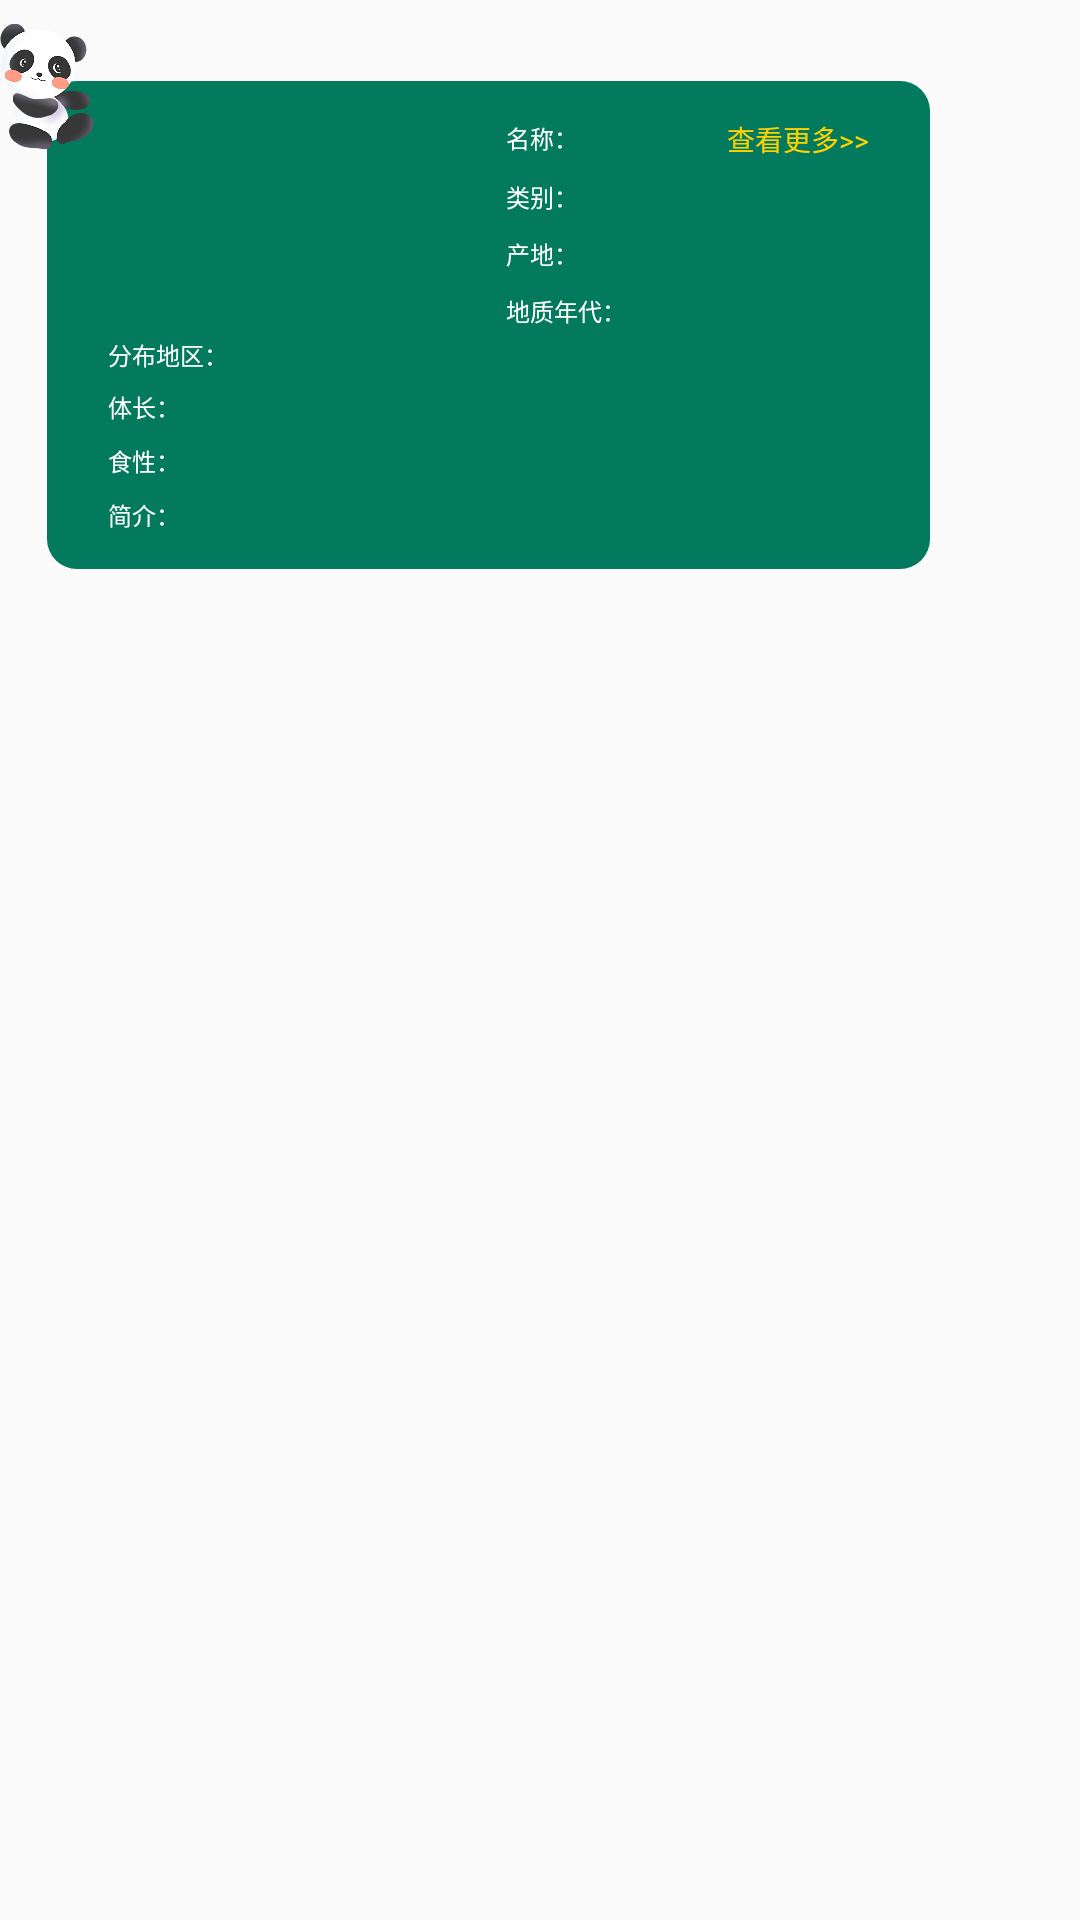

Icons on this 1080px x 1920px Android screen, each with its box as (x1, y1, x2, y2):
panda: (0, 24, 94, 149)
